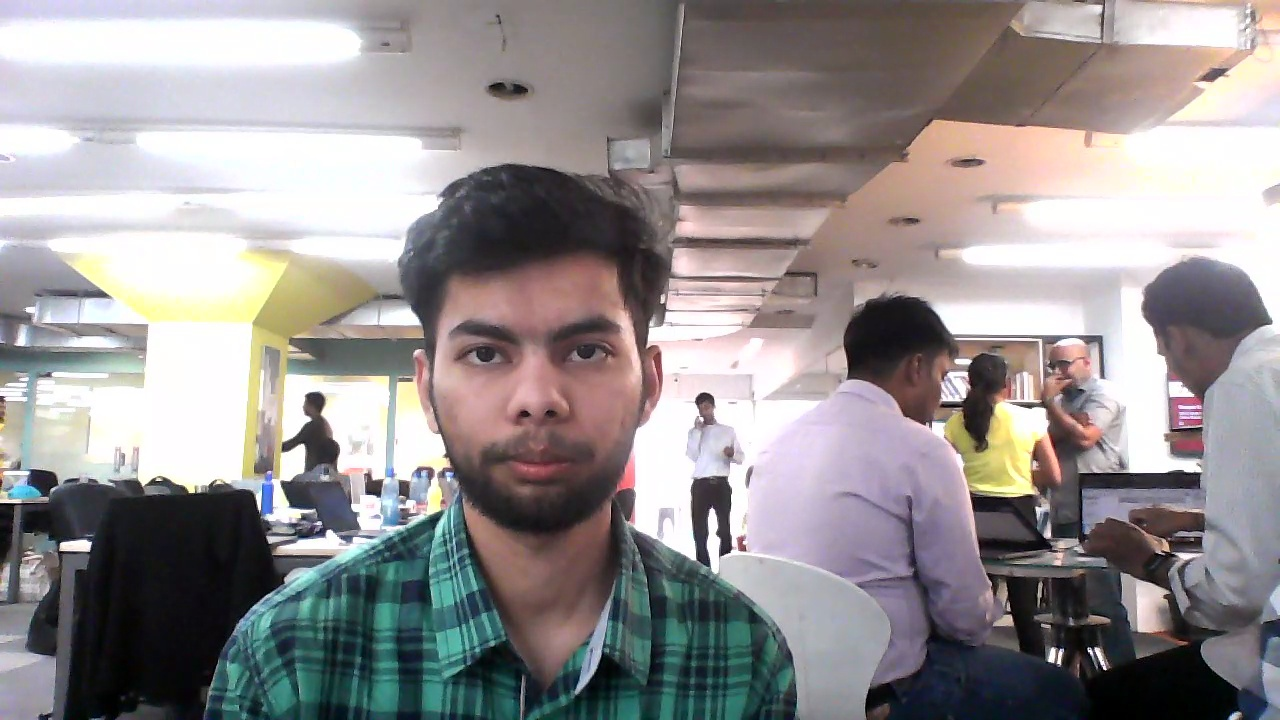open: (399, 165, 666, 533)
